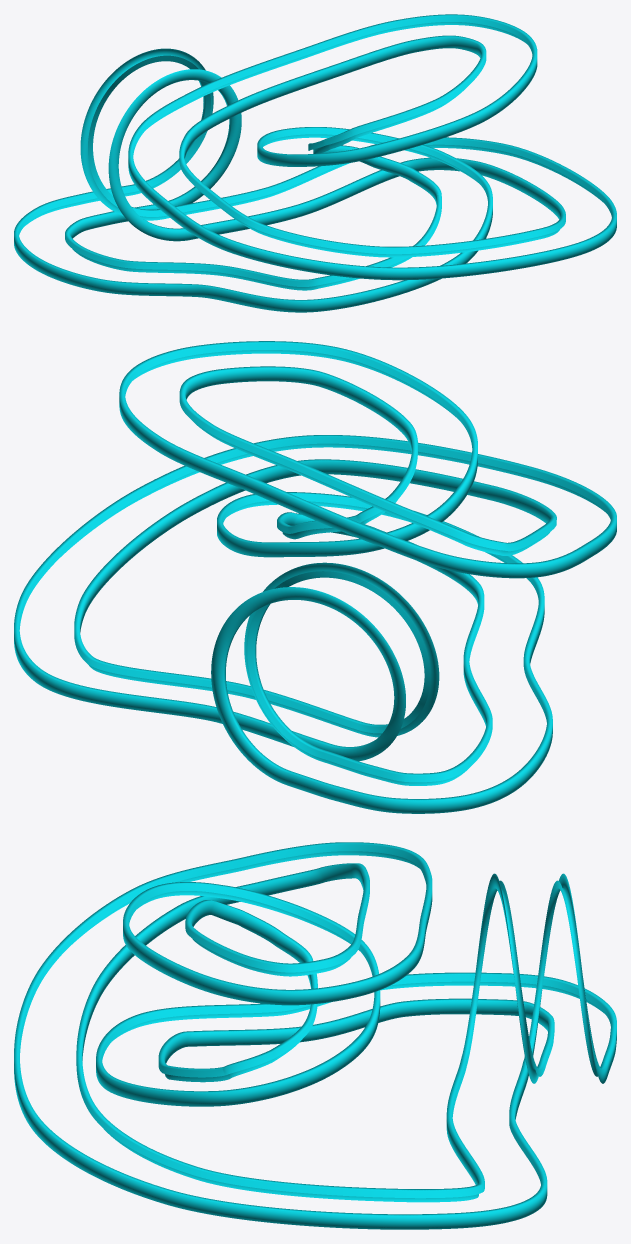
File: racetrack-dcl-1.glb
The picture shows the model from 3 angles, top to bottom: view 1: azimuth 30°, elevation 25°; view 2: azimuth 150°, elevation 25°; view 3: azimuth 270°, elevation 25°; orthographic projection. The views are drawn at different scales.
Visible parts, largest first — view 1: TRACK_WALLS; view 2: TRACK_WALLS; view 3: TRACK_WALLS.
Part boxes in pixels (x1=…): TRACK_WALLS: x1=14, y1=14, x2=616, y2=312; TRACK_WALLS: x1=14, y1=341, x2=616, y2=813; TRACK_WALLS: x1=14, y1=842, x2=616, y2=1229.
Bounding box in the file's own units: 28.09 × 11.35 × 25.92.
